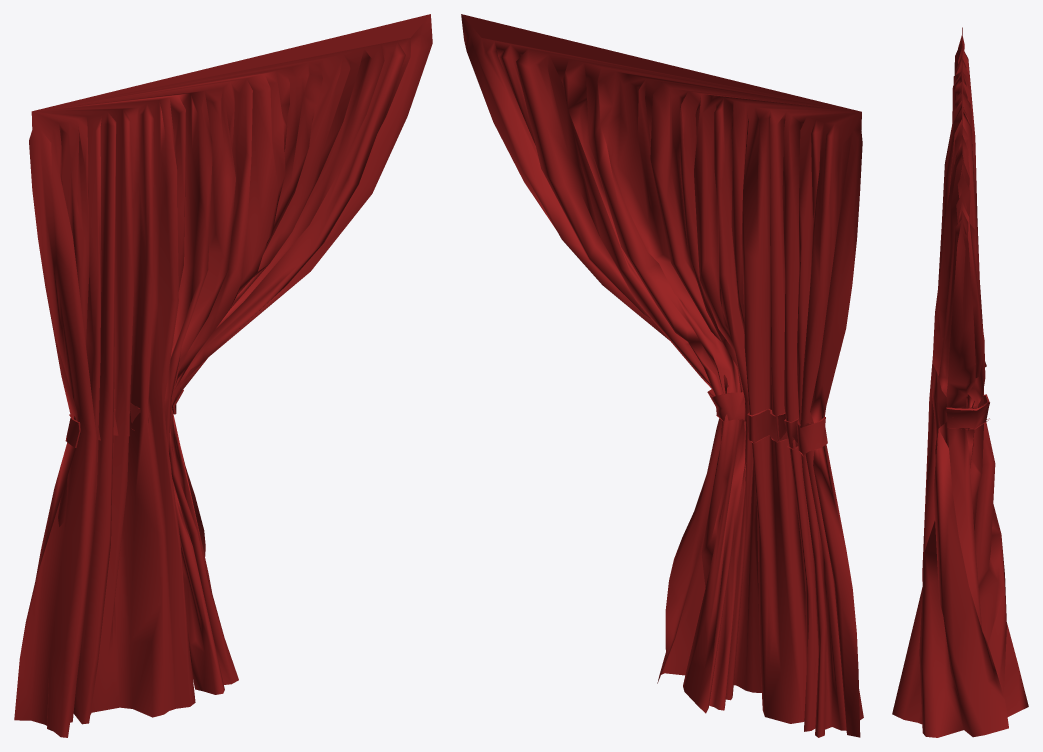
File: curtain-tied.glb
3 renders of one model, left to right at view 1: azimuth 30°, elevation 25°; view 2: azimuth 150°, elevation 25°; view 3: azimuth 270°, elevation 25°, orthographic. The views are drawn at different scales.
Size of the model in its own units: 2.86 by 4.18 by 0.8.
